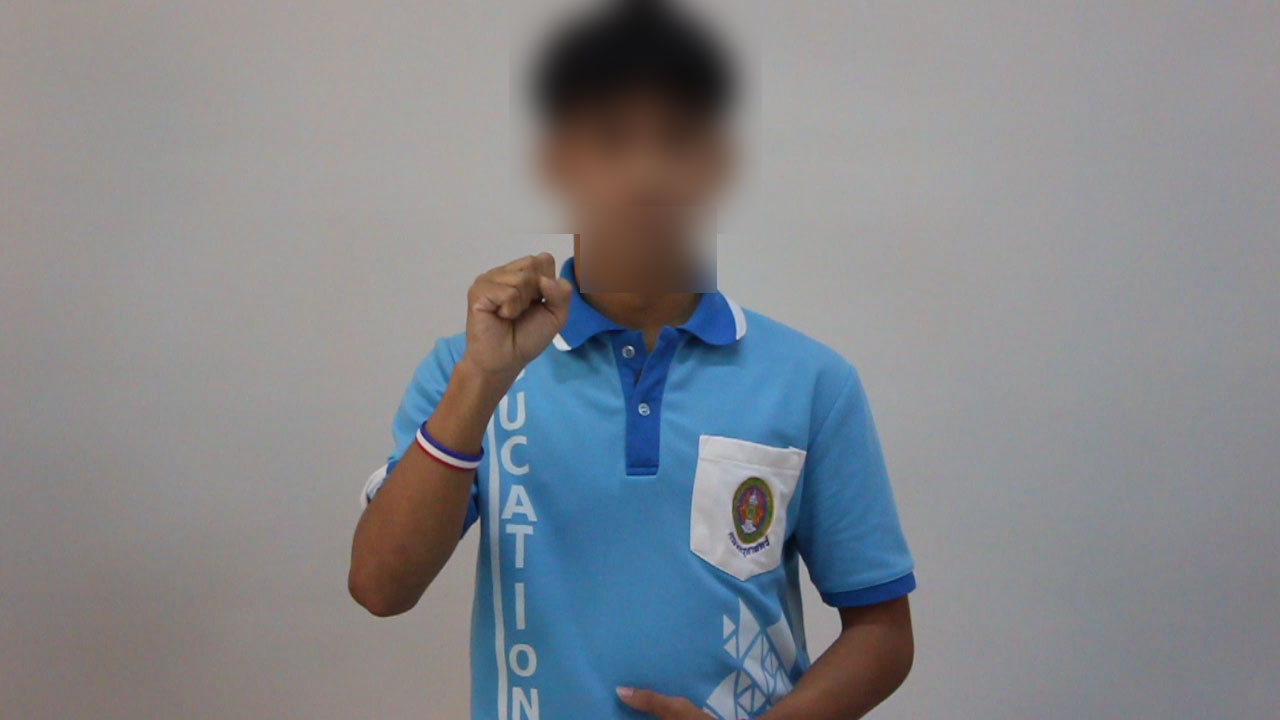sor: (443, 238, 586, 391)
